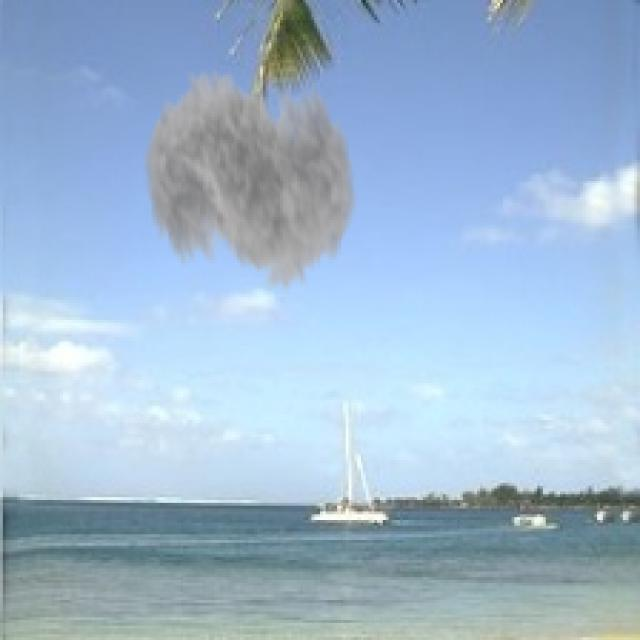Smoke: (142, 40, 358, 312)
